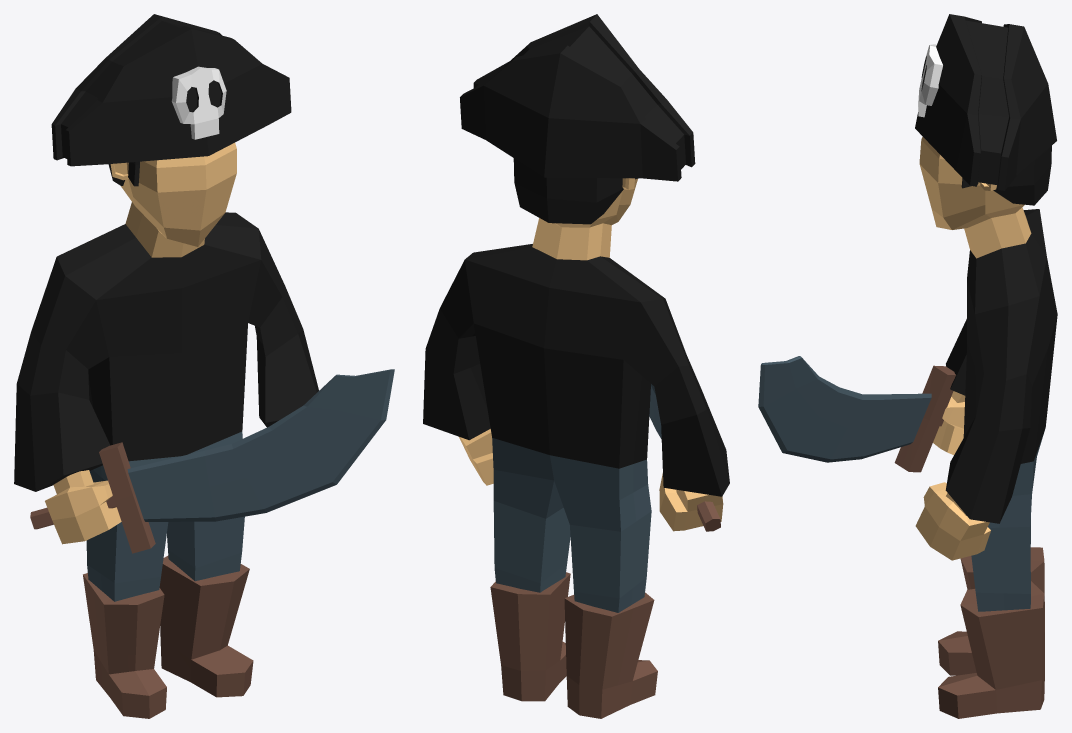
Rendered from scene_u7JdPNh8sC.glb.
The picture shows the model from 3 angles, left to right: view 1: azimuth 30°, elevation 25°; view 2: azimuth 150°, elevation 25°; view 3: azimuth 270°, elevation 25°; orthographic projection.
Parts seen in each view (by area): view 1: Pirate_Cube.008_Cube.000; view 2: Pirate_Cube.008_Cube.000; view 3: Pirate_Cube.008_Cube.000.
Part boxes in pixels (x1=…): Pirate_Cube.008_Cube.000: x1=14, y1=14, x2=394, y2=718; Pirate_Cube.008_Cube.000: x1=423, y1=14, x2=729, y2=718; Pirate_Cube.008_Cube.000: x1=758, y1=14, x2=1057, y2=718.
Bounding box in the file's own units: 6.96 × 14.73 × 5.93.
